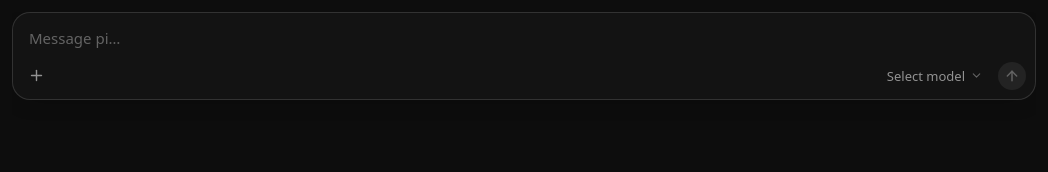
Test: Composer prompt history › walks back with ArrowUp and returns to the draft with ArrowDown
Later steps or results of the test are not shown.
Type "my draft" into the text box labelled "Message".
click(524, 34); type("my draft")  # box [13, 13, 1035, 55]
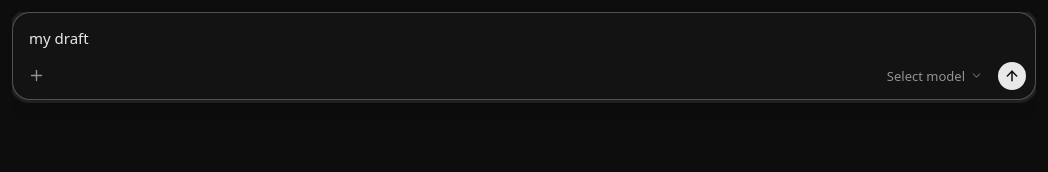
Press Home Arrowup
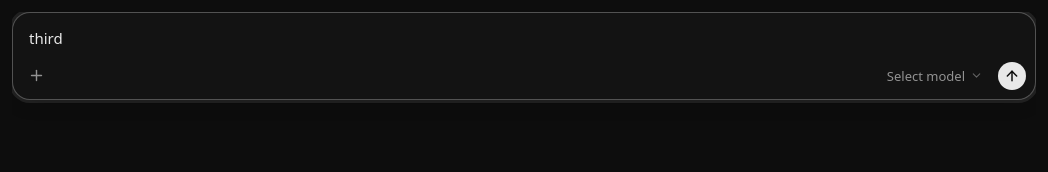
Result: the text box named "Message" holds "third" at [13, 13, 1035, 55]
Press Arrowup Arrowup
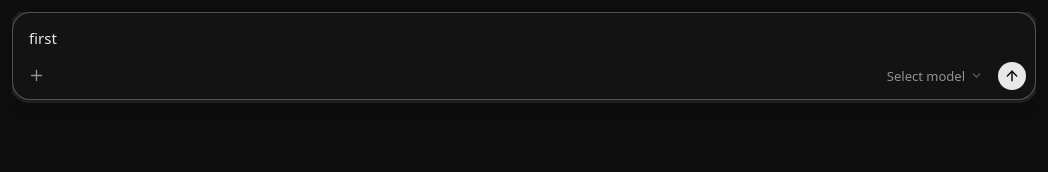
Result: the text box named "Message" holds "first" at [13, 13, 1035, 55]
Press Arrowup
Result: the text box named "Message" holds "first" at [13, 13, 1035, 55]
Press Arrowdown
Result: the text box named "Message" holds "first" at [13, 13, 1035, 55]
Press End Arrowdown
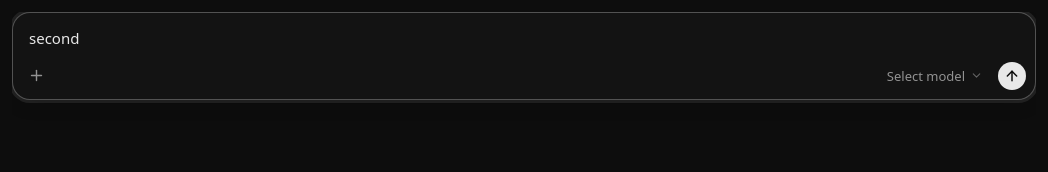
Result: the text box named "Message" holds "second" at [13, 13, 1035, 55]
Press Arrowdown
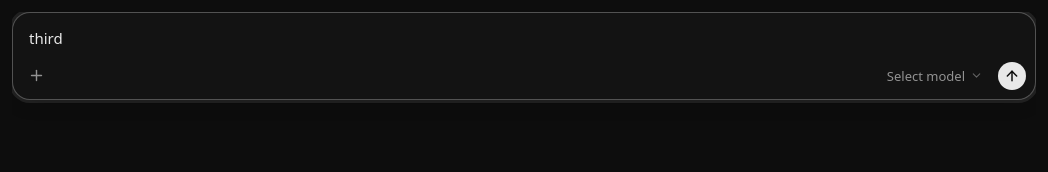
Result: the text box named "Message" holds "third" at [13, 13, 1035, 55]
